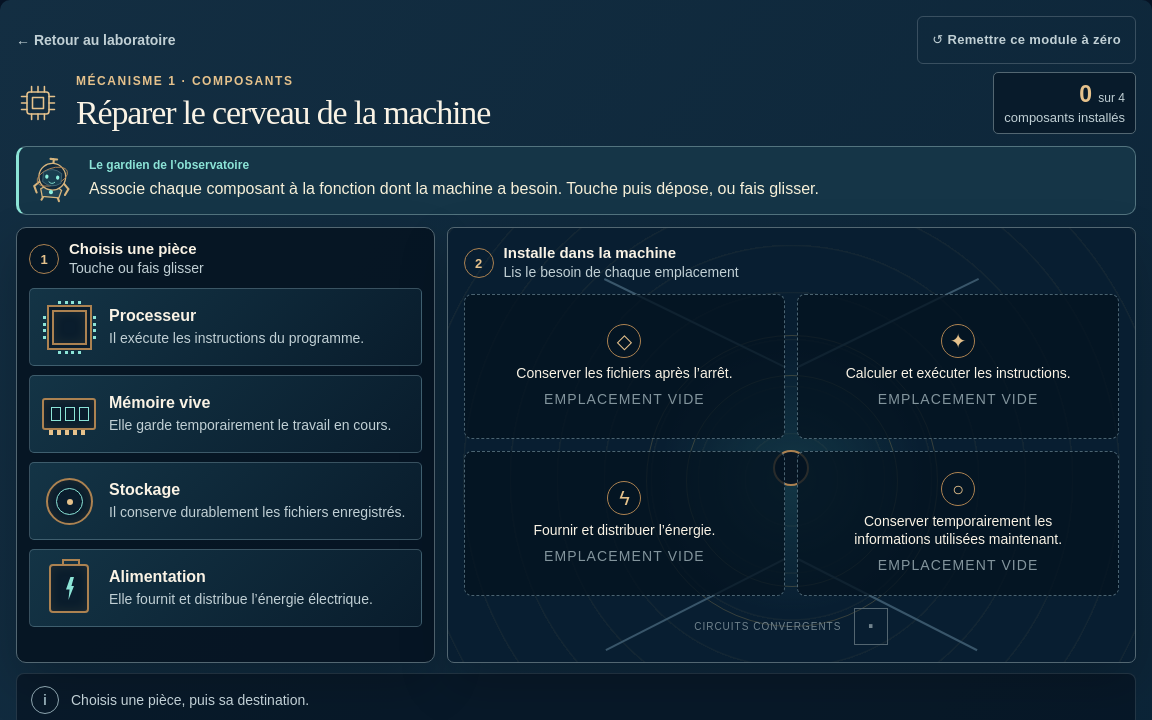
Test: mission numérique Composants › remet à zéro une mission partiellement jouée
This screenshot has width=1152, height=720.
Step 1. Click the button "Processeur Il exécute les instructions du programme." → {"x": 225, "y": 327}, box [29,288,422,366]
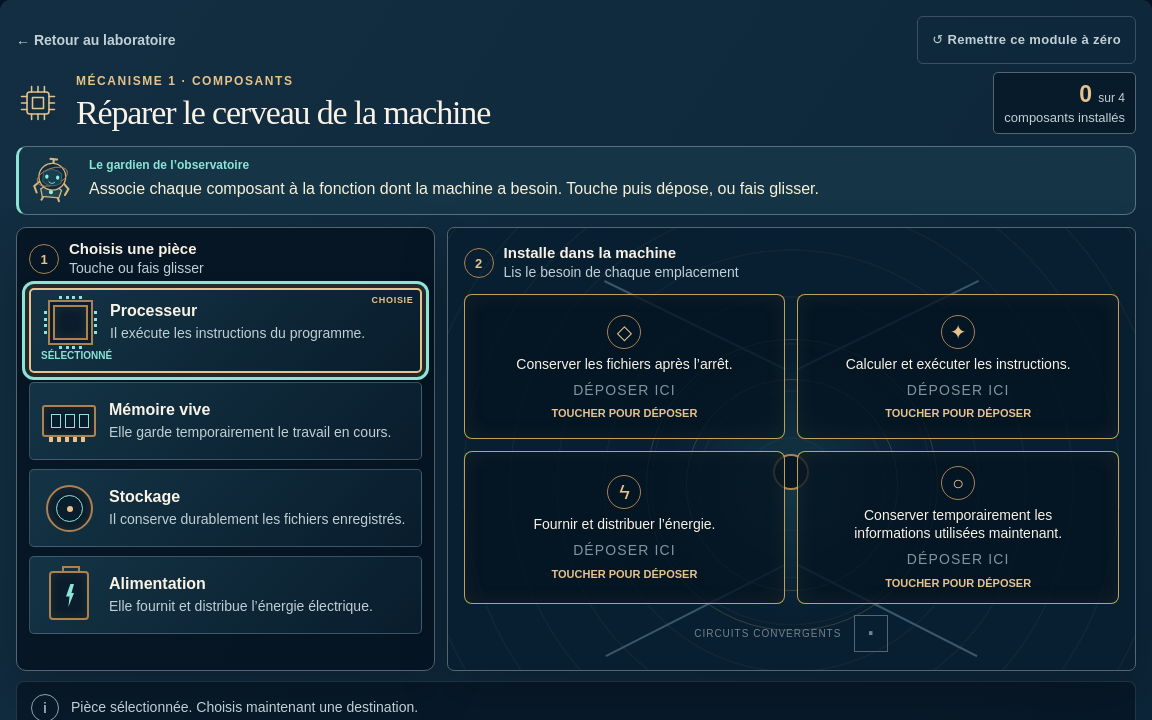
Step 2. Click the button "✦ Calculer et exécuter les instructions. Déposer ici" → {"x": 958, "y": 367}, box [797,294,1119,439]
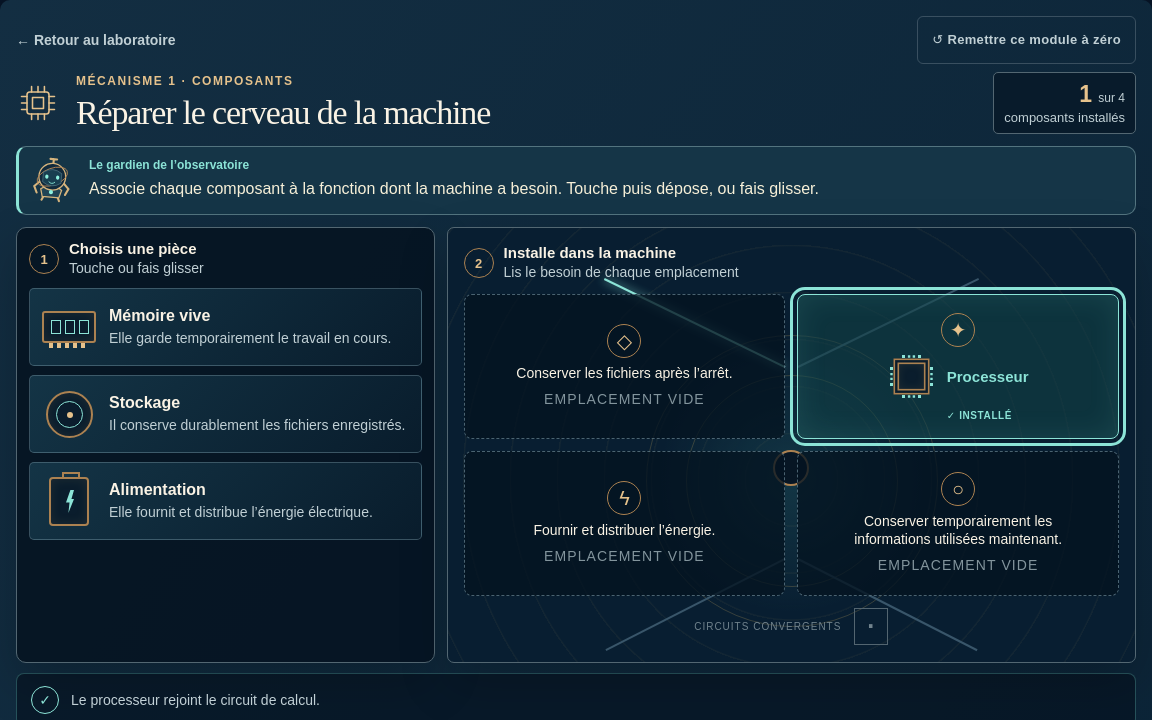
Step 3. Click the button "↺ Remettre ce module à zéro" → {"x": 1027, "y": 40}, box [917,16,1136,64]
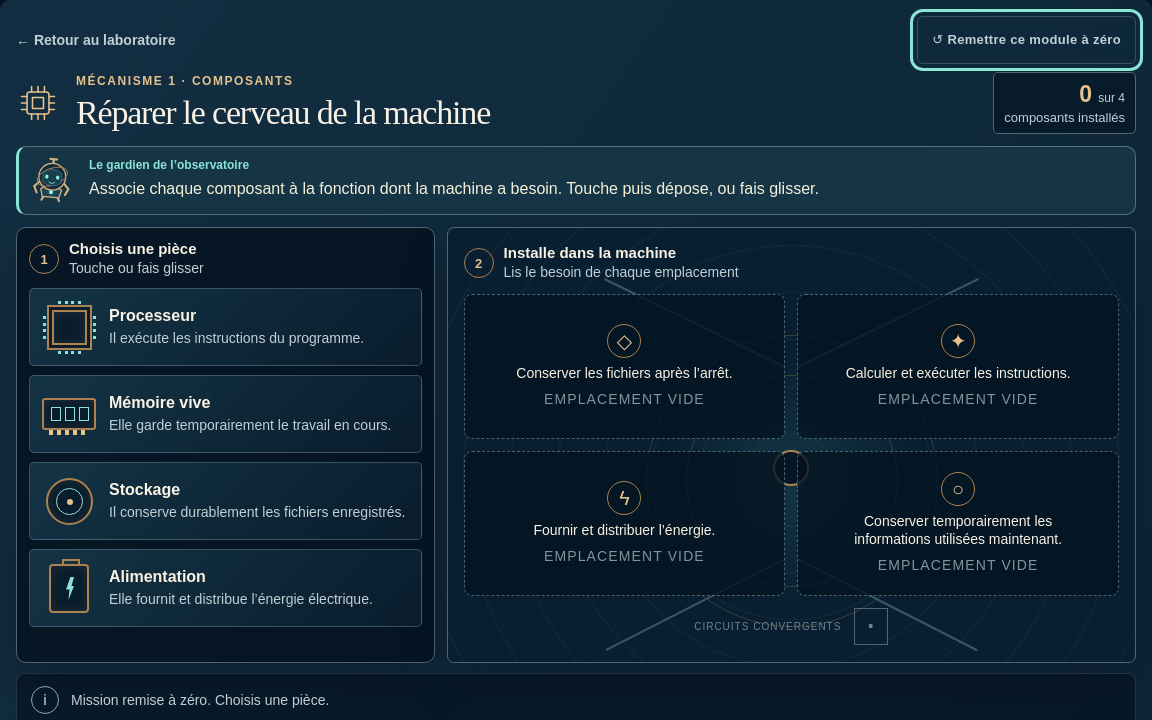
Expected: the element named "0 composants installés sur 4" is shown, [993,72,1136,134]
Expected: the button "Processeur Il exécute les instructions du programme." is shown, [29,288,422,366]
